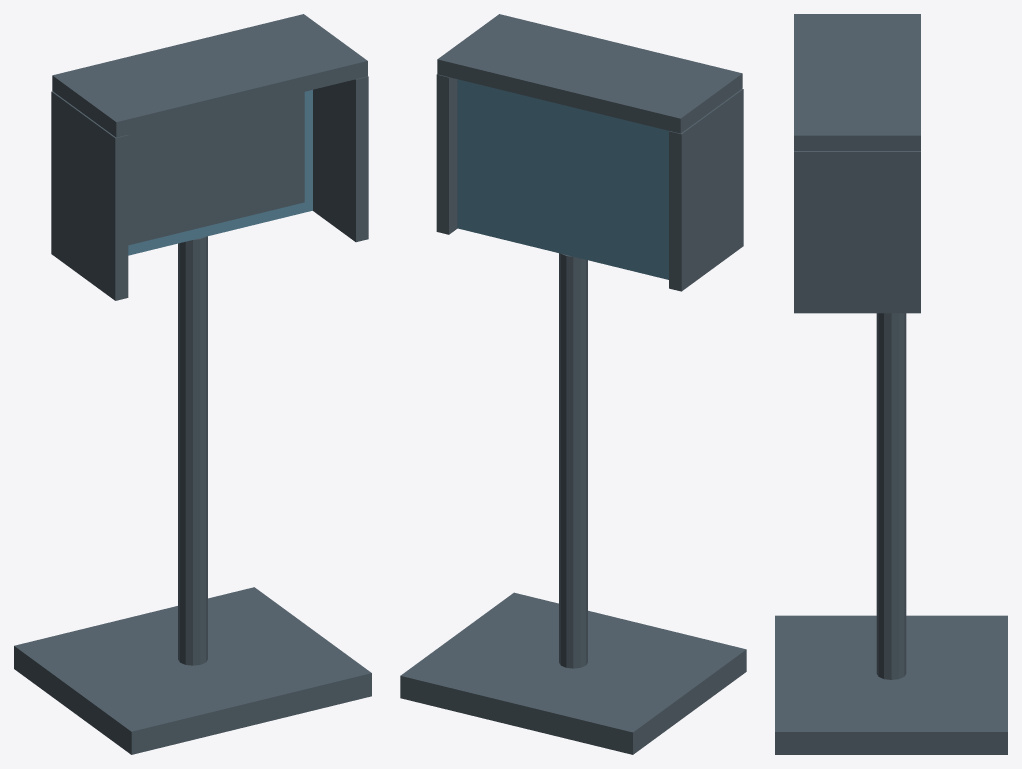
File: american-football-stadium-kit-official-review-screen-ecc7662c__22388.glb
3 renders of one model, left to right at view 1: azimuth 30°, elevation 25°; view 2: azimuth 150°, elevation 25°; view 3: azimuth 270°, elevation 25°, orthographic. The views are drawn at different scales.
Parts seen in each view (by area): view 1: official-review-screen; view 2: official-review-screen; view 3: official-review-screen.
Part boxes in pixels (x1,y1,x2,y2): official-review-screen: [14, 14, 371, 754]; official-review-screen: [400, 14, 746, 754]; official-review-screen: [775, 14, 1007, 754].
Size of the model in its own units: 0.6849 by 1.62 by 0.55.
